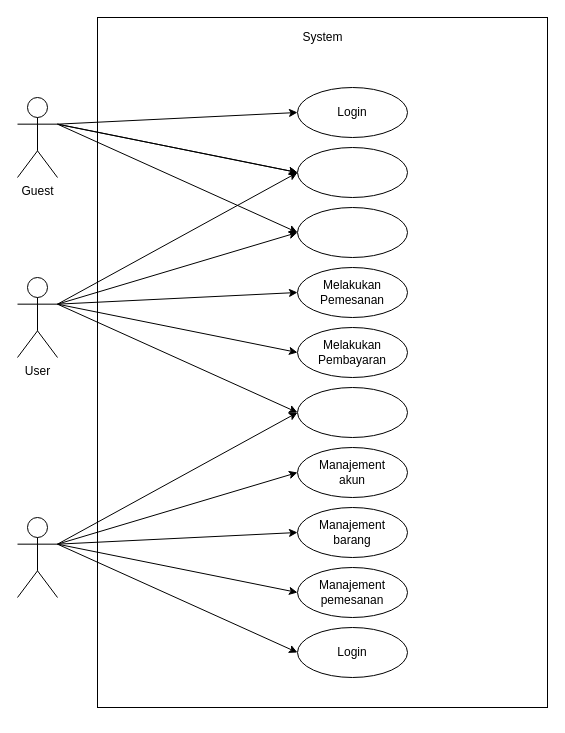
This 565x733 diagram has some shape labels left out. Here are the shapes that lost their labels. From the top down, the box of each, then its label:
(296, 146, 408, 198): Melihat Katalog barang
(296, 206, 408, 258): Melihat Detail Barang
(296, 386, 408, 438): Logout
(16, 516, 58, 598): Admin
